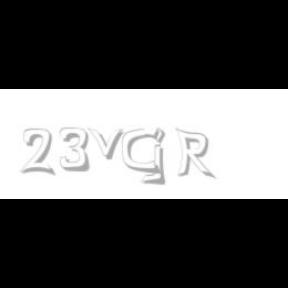2: (20, 128, 54, 176)
3: (60, 128, 91, 172)
C: (122, 128, 160, 174)
R: (175, 128, 213, 180)
j: (150, 128, 180, 186)
v: (87, 128, 127, 160)
